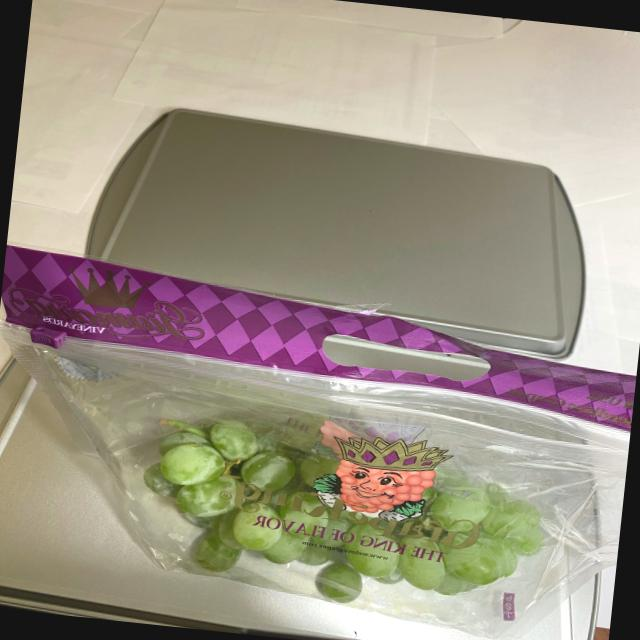grapes: (112, 400, 579, 622)
